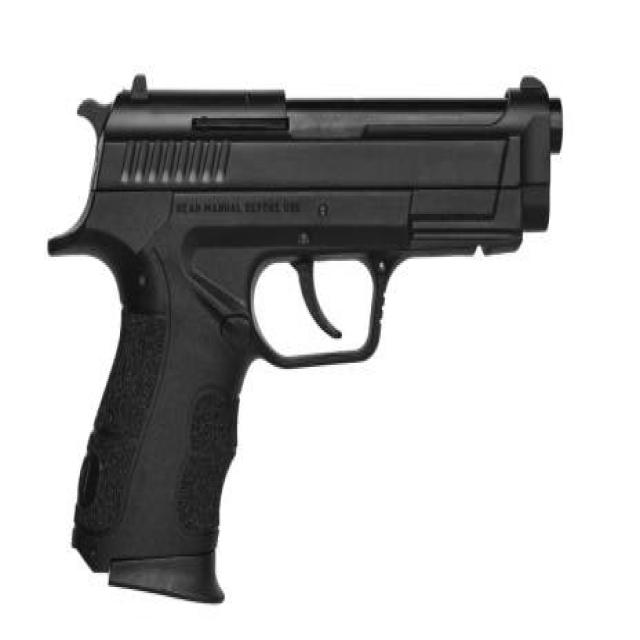pistol: (46, 65, 570, 609)
